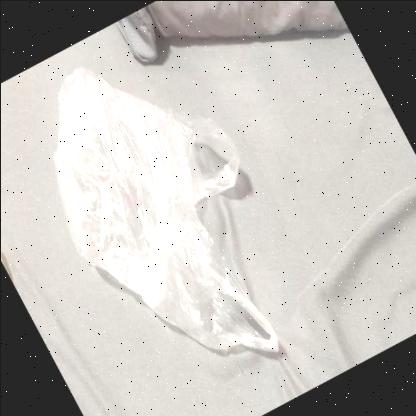Others: (53, 69, 279, 356)
